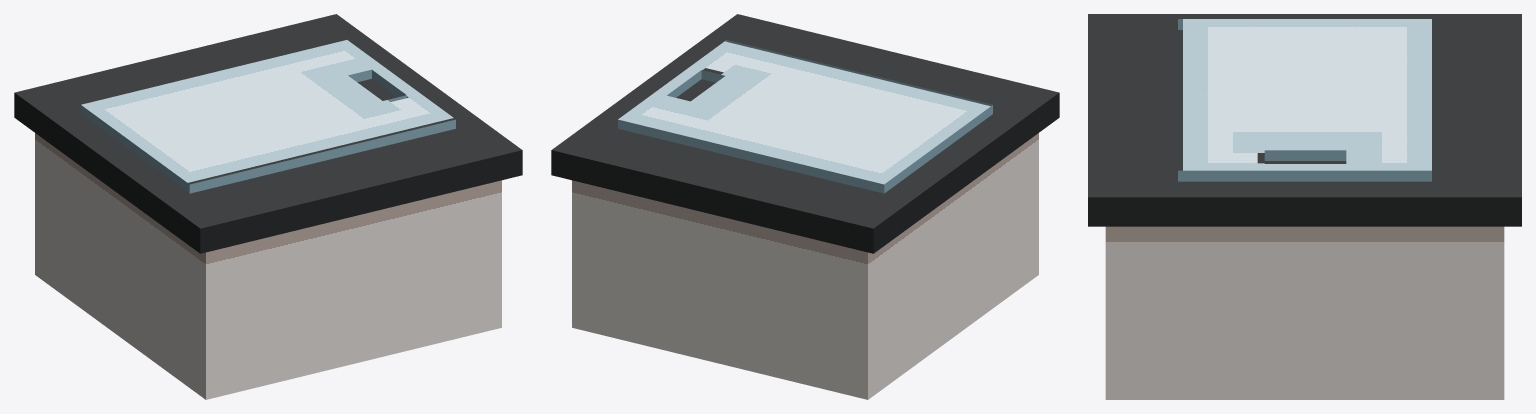
File: cutting_board.gltf
3 renders of one model, left to right at view 1: azimuth 30°, elevation 25°; view 2: azimuth 150°, elevation 25°; view 3: azimuth 270°, elevation 25°, orthographic. The views are drawn at different scales.
Visible parts, largest first — view 1: cuboid; view 2: cuboid; view 3: cuboid.
Part boxes in pixels (left/top/right/bottom): cuboid: left=14, top=14, right=522, bottom=399; cuboid: left=551, top=14, right=1059, bottom=399; cuboid: left=1088, top=14, right=1521, bottom=399.
Bounding box in the file's own units: 1.09 × 0.6109 × 1.09.
1 material, 1 textured.
